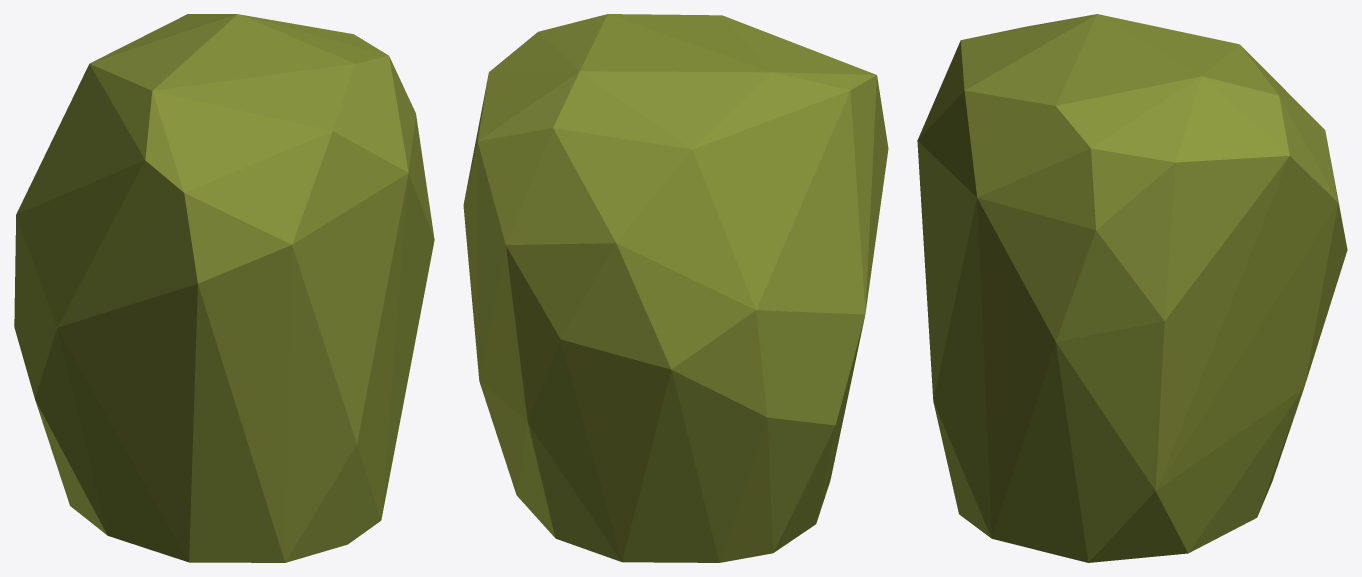
File: ea_swamp_grass_02e_pre__20__lev1.glb
The picture shows the model from 3 angles, left to right: view 1: azimuth 30°, elevation 25°; view 2: azimuth 150°, elevation 25°; view 3: azimuth 270°, elevation 25°; orthographic projection.
Parts seen in each view (by area): view 1: ea_swamp_grass_02e_pre__20__lev1; view 2: ea_swamp_grass_02e_pre__20__lev1; view 3: ea_swamp_grass_02e_pre__20__lev1.
Part boxes in pixels (bbox=[...]): ea_swamp_grass_02e_pre__20__lev1: bbox=[14, 14, 434, 562]; ea_swamp_grass_02e_pre__20__lev1: bbox=[463, 14, 888, 562]; ea_swamp_grass_02e_pre__20__lev1: bbox=[917, 14, 1347, 562].
Size of the model in its own units: 2.28 by 2.63 by 2.32.
1 material, 1 textured.
